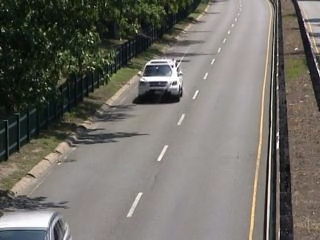car: (132, 55, 190, 104)
